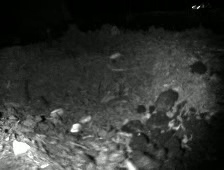corn: (11, 137, 32, 156), (68, 121, 83, 134), (49, 107, 65, 119), (78, 112, 92, 125), (107, 50, 122, 60)
